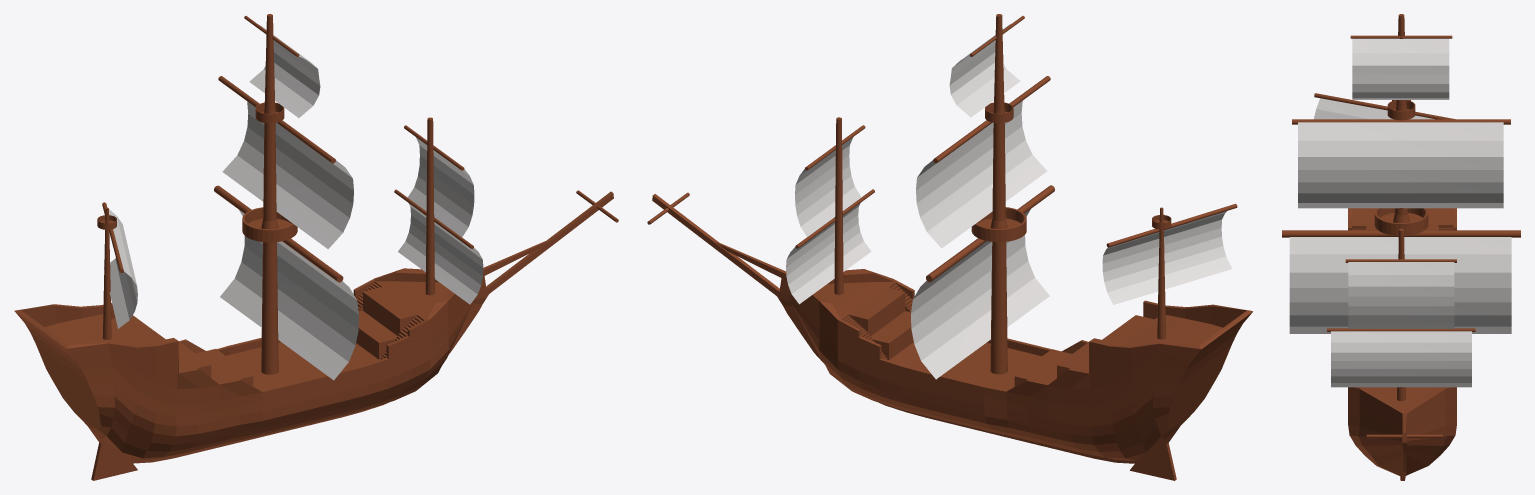
Rendered from Schip.fbx.
3 renders of one model, left to right at view 1: azimuth 30°, elevation 25°; view 2: azimuth 150°, elevation 25°; view 3: azimuth 270°, elevation 25°, orthographic. The views are drawn at different scales.
Parts seen in each view (by area): view 1: Cylinder.005, Cylinder.011, Cylinder.006, Cylinder.009, Cylinder.007; view 2: Cylinder.005, Cylinder.011, Cylinder.006, Cylinder.009, Cylinder.007; view 3: Cylinder.011, Cylinder.005, Cylinder.006, Cylinder.009, Cylinder.007.
Boxes of the visible parts, left/top/right/bottom form: Cylinder.005: left=14, top=190, right=618, bottom=480; Cylinder.011: left=104, top=24, right=483, bottom=380; Cylinder.006: left=214, top=14, right=343, bottom=374; Cylinder.009: left=394, top=117, right=473, bottom=295; Cylinder.007: left=97, top=202, right=123, bottom=339; Cylinder.005: left=647, top=192, right=1252, bottom=480; Cylinder.011: left=786, top=24, right=1232, bottom=379; Cylinder.006: left=926, top=14, right=1054, bottom=374; Cylinder.009: left=795, top=117, right=874, bottom=294; Cylinder.007: left=1106, top=203, right=1237, bottom=339; Cylinder.011: left=1289, top=38, right=1511, bottom=387; Cylinder.005: left=1348, top=208, right=1456, bottom=480; Cylinder.006: left=1282, top=14, right=1520, bottom=237; Cylinder.009: left=1327, top=228, right=1475, bottom=401; Cylinder.007: left=1314, top=93, right=1455, bottom=119.
Bounding box in the file's own units: 10635 × 7482 × 3945.
Materials: 1 (1 with a texture image).
